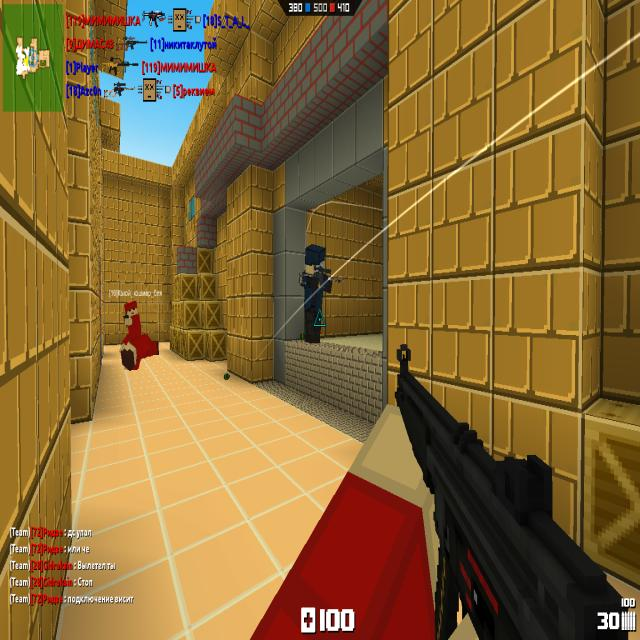enemy: (300, 244, 333, 343)
